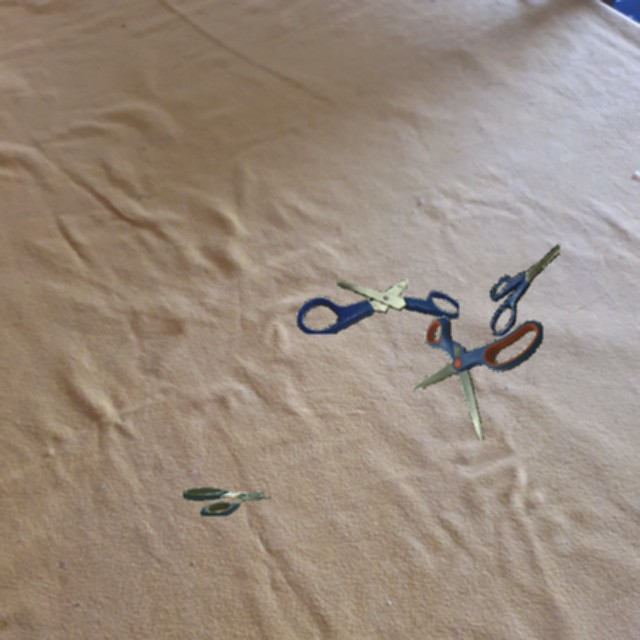scissors: (413, 315, 543, 441), (296, 278, 459, 334), (490, 244, 560, 336), (183, 487, 272, 516)
